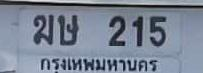1: (132, 15, 142, 46)
2: (107, 15, 124, 45)
5: (149, 15, 165, 46)
A06: (32, 14, 52, 43)
A39: (57, 14, 78, 45)
BKK: (37, 56, 159, 73)
